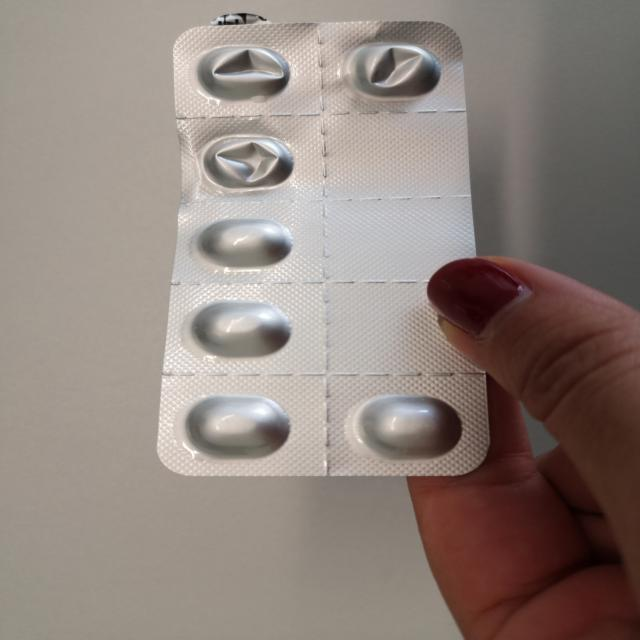Empty: (334, 35, 450, 103), (188, 43, 300, 105), (196, 132, 304, 192)
Pill: (177, 390, 295, 463), (350, 391, 467, 462), (180, 296, 295, 361), (190, 214, 297, 272)
